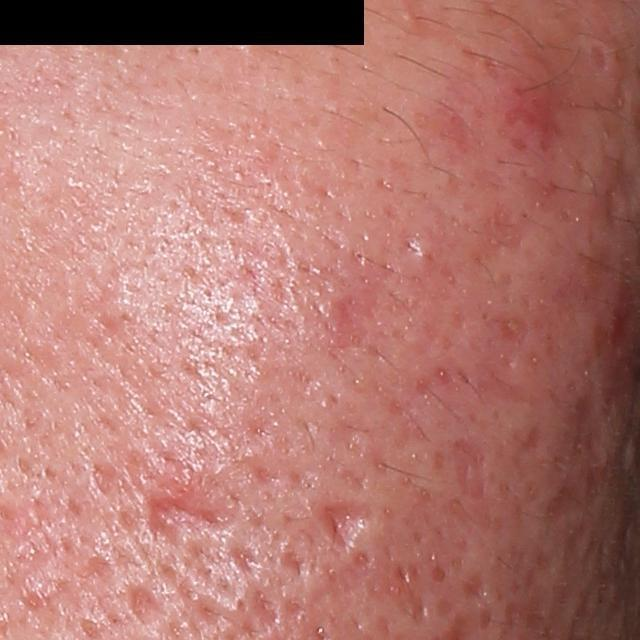atrophic_scar: (143, 480, 235, 550), (308, 501, 371, 553), (449, 434, 492, 503), (484, 314, 537, 364), (126, 582, 164, 628), (87, 460, 115, 504), (591, 42, 609, 72)
papule: (495, 75, 565, 155)
